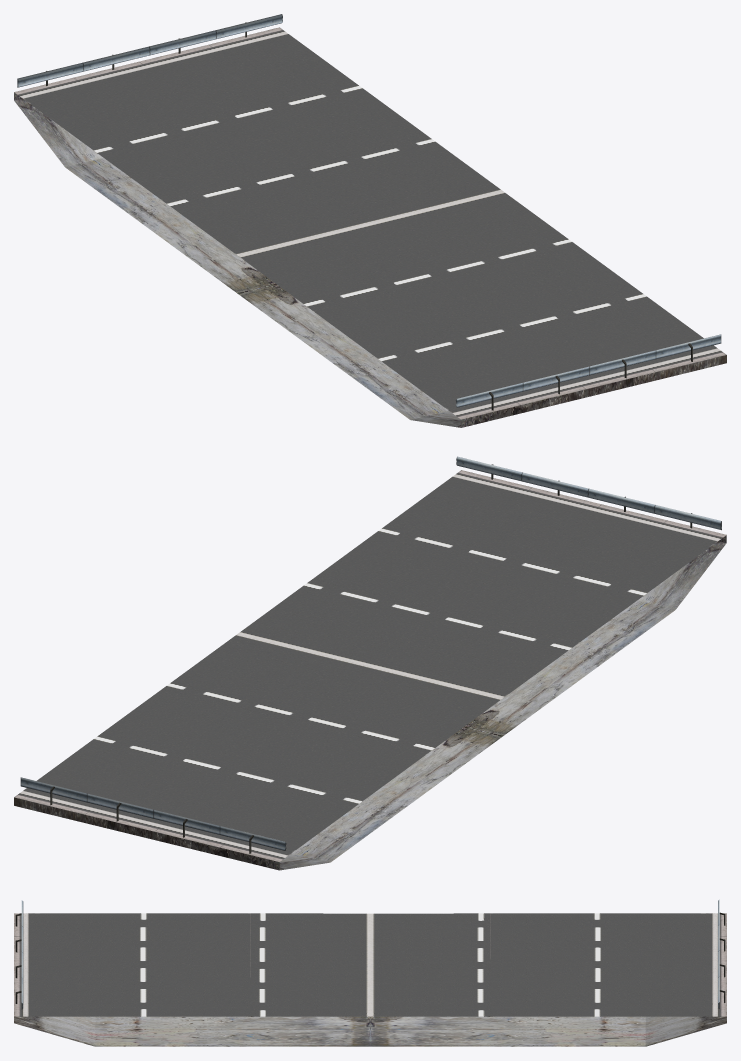
Rendered from 6 line highway without legs.FBX.
3 renders of one model, top to bottom at view 1: azimuth 30°, elevation 25°; view 2: azimuth 150°, elevation 25°; view 3: azimuth 270°, elevation 25°, orthographic. The views are drawn at different scales.
Parts seen in each view (by area): view 1: Plane285; view 2: Plane285; view 3: Plane285.
Boxes of the visible parts, x1,y1,x2,y2 form: Plane285: [14, 14, 726, 427]; Plane285: [14, 456, 726, 870]; Plane285: [14, 899, 726, 1046].
Bounding box in the file's own units: 12.08 × 2.38 × 35.09.
